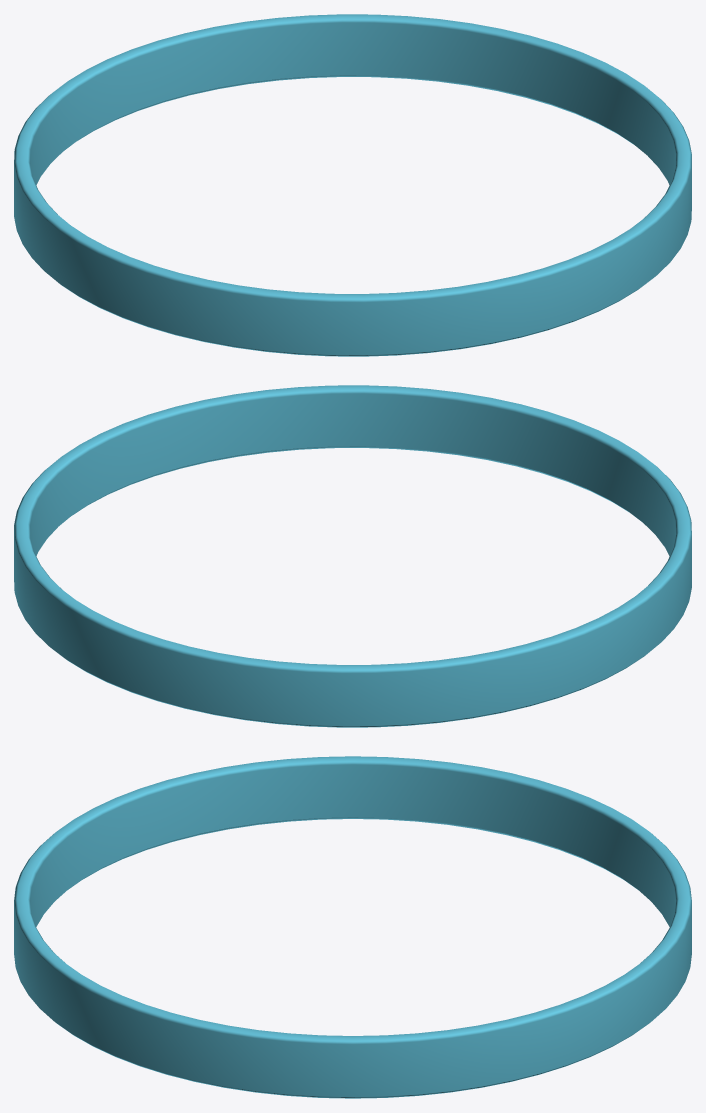
3 views of the same model, one above another, from view 1: azimuth 30°, elevation 25°; view 2: azimuth 150°, elevation 25°; view 3: azimuth 270°, elevation 25° (orthographic).
Parts seen in each view (by area): view 1: seal_body; view 2: seal_body; view 3: seal_body.
Part boxes in pixels (x1,y1,x2,y2): seal_body: (14,14,691,356); seal_body: (14,385,691,727); seal_body: (14,756,691,1098).
Size of the model in its own units: 0.1333 by 0.0127 by 0.1333.
